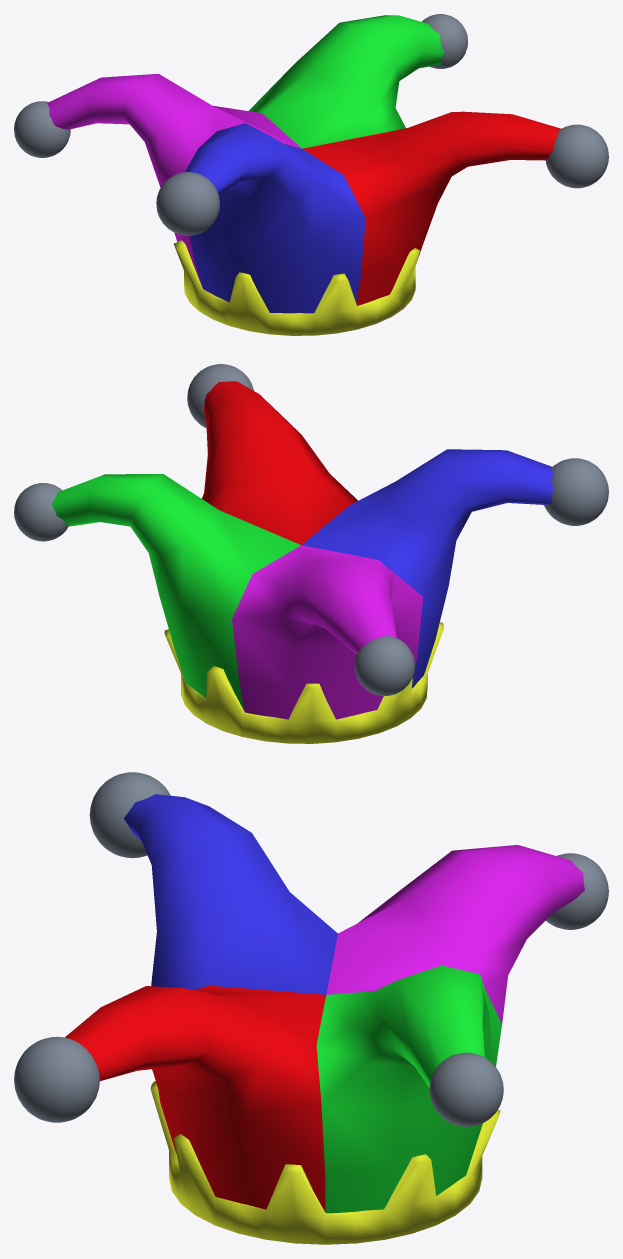
Rendered from Hat.fbx.
The picture shows the model from 3 angles, top to bottom: view 1: azimuth 30°, elevation 25°; view 2: azimuth 150°, elevation 25°; view 3: azimuth 270°, elevation 25°; orthographic projection. The views are drawn at different scales.
Visible parts, largest first — view 1: Cube; view 2: Cube; view 3: Cube.
Boxes of the visible parts, x1,y1,x2,y2 form: Cube: (14,14,608,335); Cube: (14,364,608,743); Cube: (14,772,608,1244).
Bounding box in the file's own units: 3.62 × 1.75 × 3.23.
